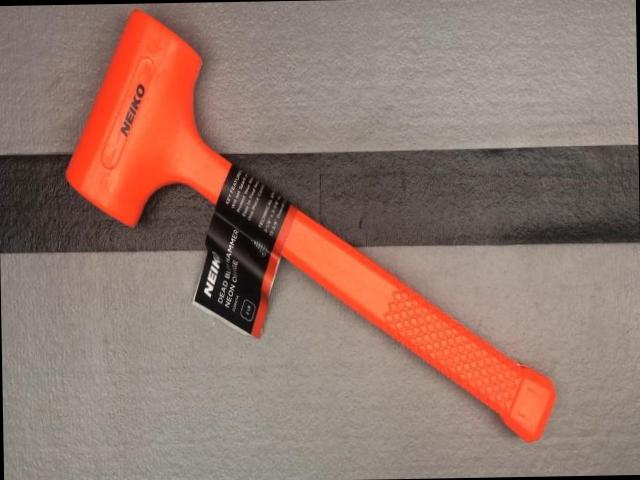hammer: (66, 2, 556, 450)
